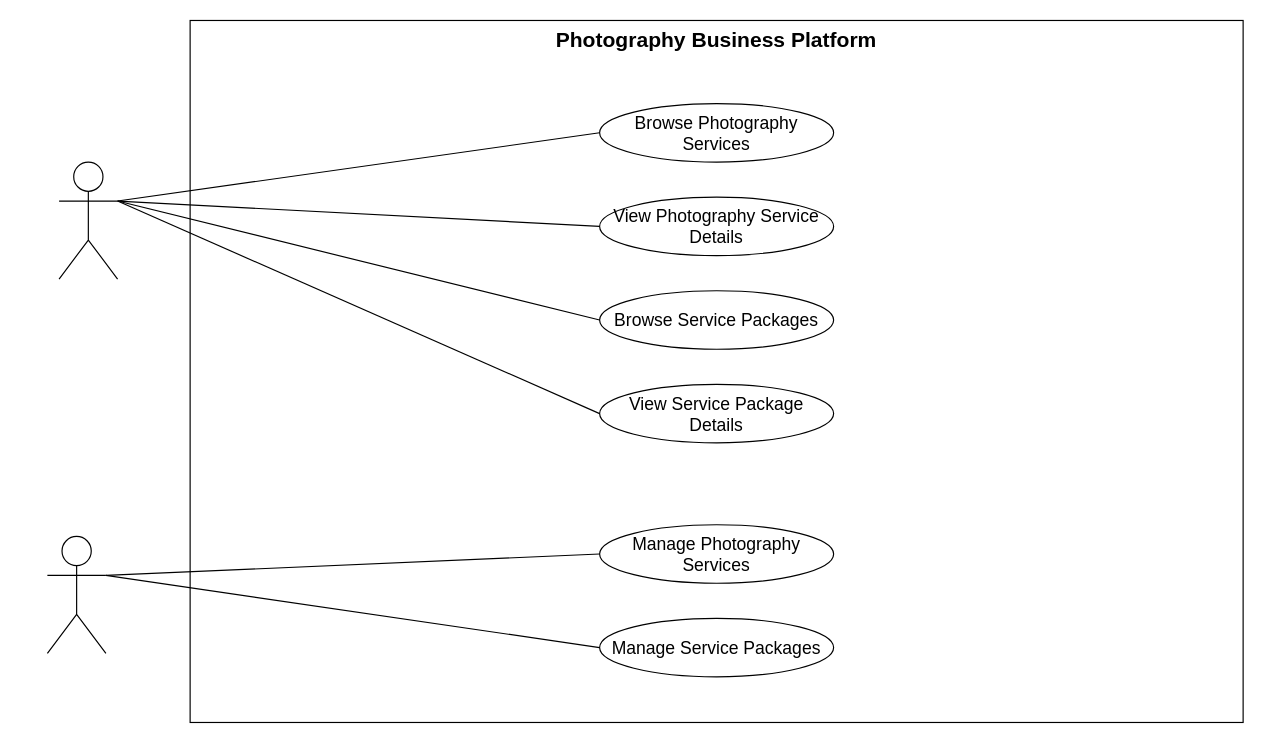
Some shapes in this 1264 by 743 pixel diagram are drawn without their labels. The shapes that lost their labels are listed below. From the top down, each one's centre as x and y in pixels, then its label:
the point at 88,220: Guest Visitor
the point at 76,594: Photographer
